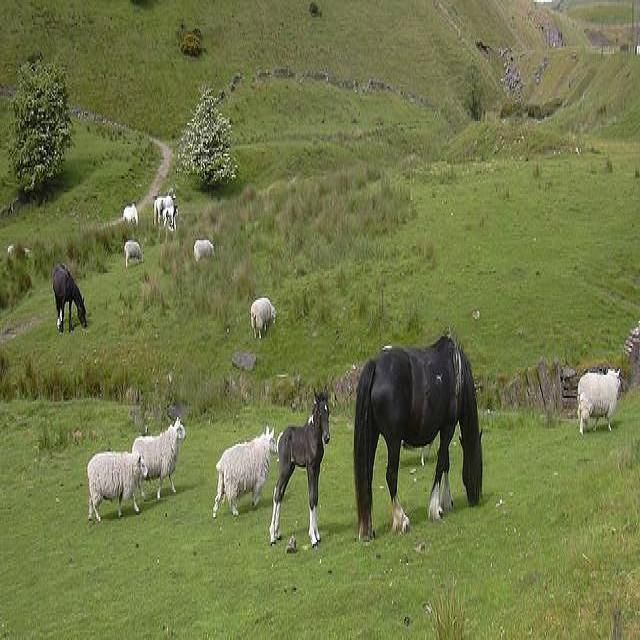Sheep: (211, 427, 281, 521), (132, 419, 187, 502), (87, 450, 148, 521), (577, 369, 622, 434)
